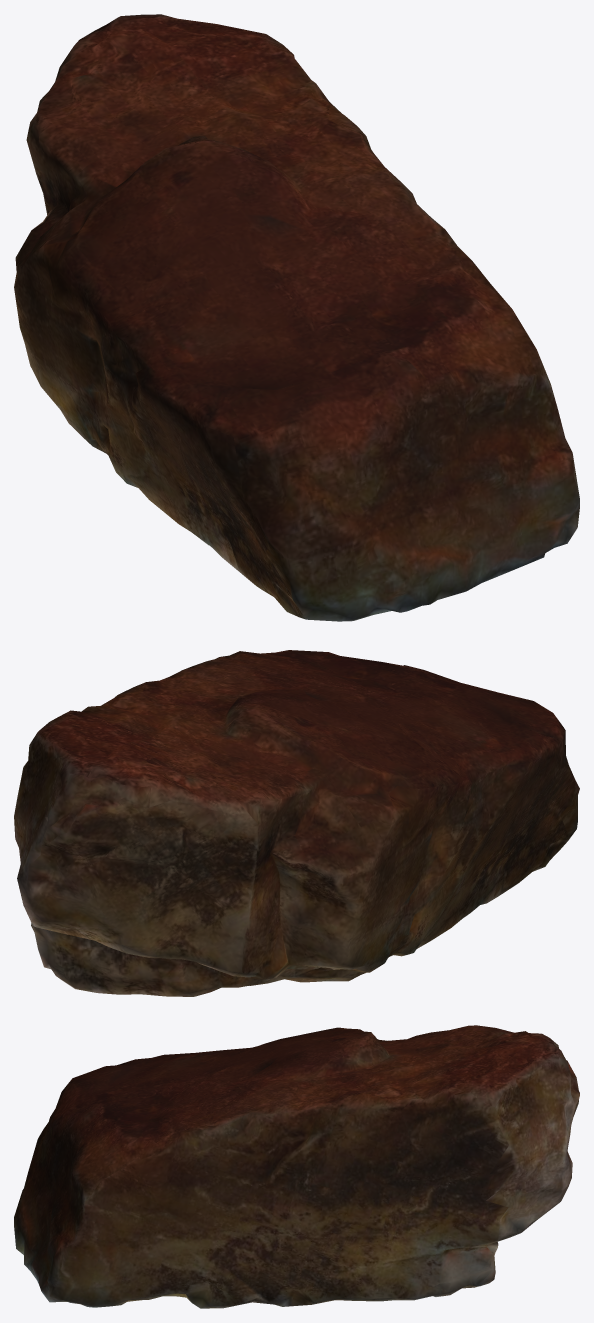
The picture shows the model from 3 angles, top to bottom: view 1: azimuth 30°, elevation 25°; view 2: azimuth 150°, elevation 25°; view 3: azimuth 270°, elevation 25°; orthographic projection. The views are drawn at different scales.
Visible parts, largest first — view 1: rock_07; view 2: rock_07; view 3: rock_07.
Part boxes in pixels (bbox=[...]): rock_07: bbox=[14, 14, 579, 621]; rock_07: bbox=[14, 650, 579, 996]; rock_07: bbox=[14, 1025, 579, 1308].
Size of the model in its own units: 0.1685 by 0.1437 by 0.3201.
Materials: 1 (1 with a texture image).
